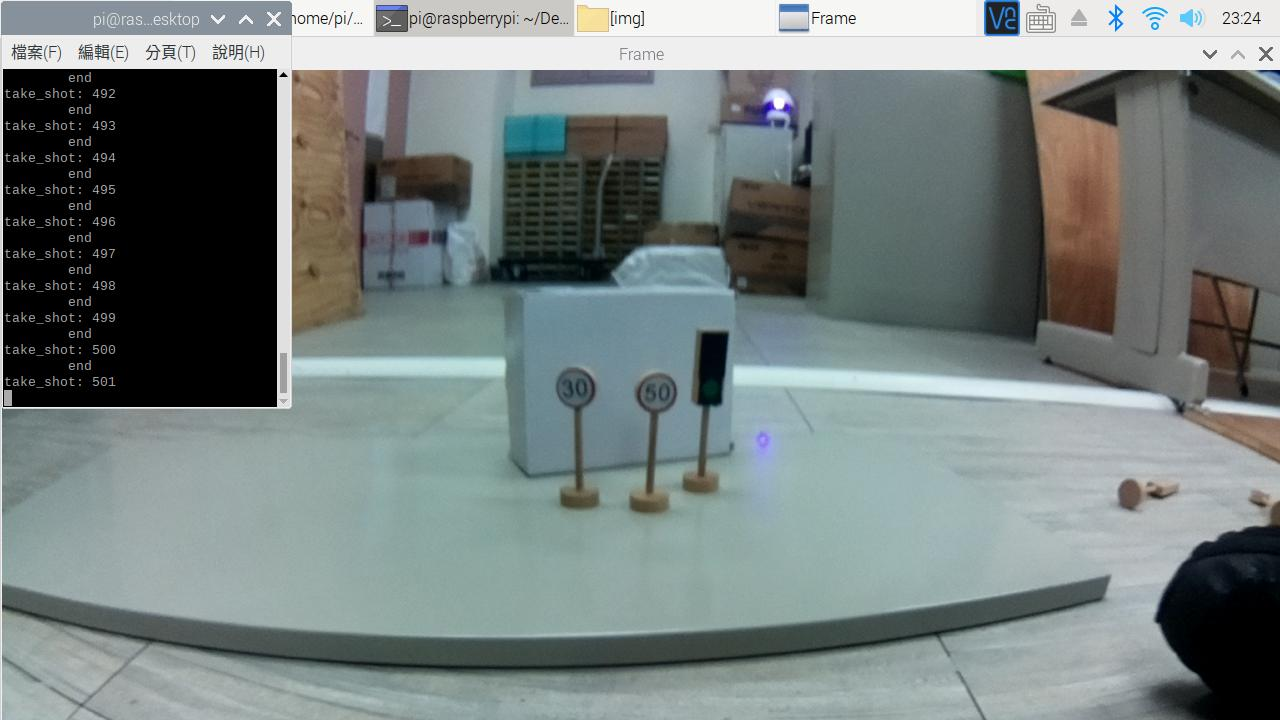Green: (690, 322, 730, 411)
Speed30: (550, 356, 608, 418)
Speed50: (630, 368, 683, 424)
